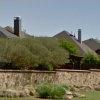Chimney: (9, 12, 34, 50)
